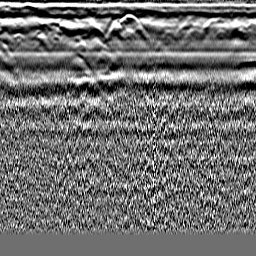cavity: (119, 9, 139, 27)
